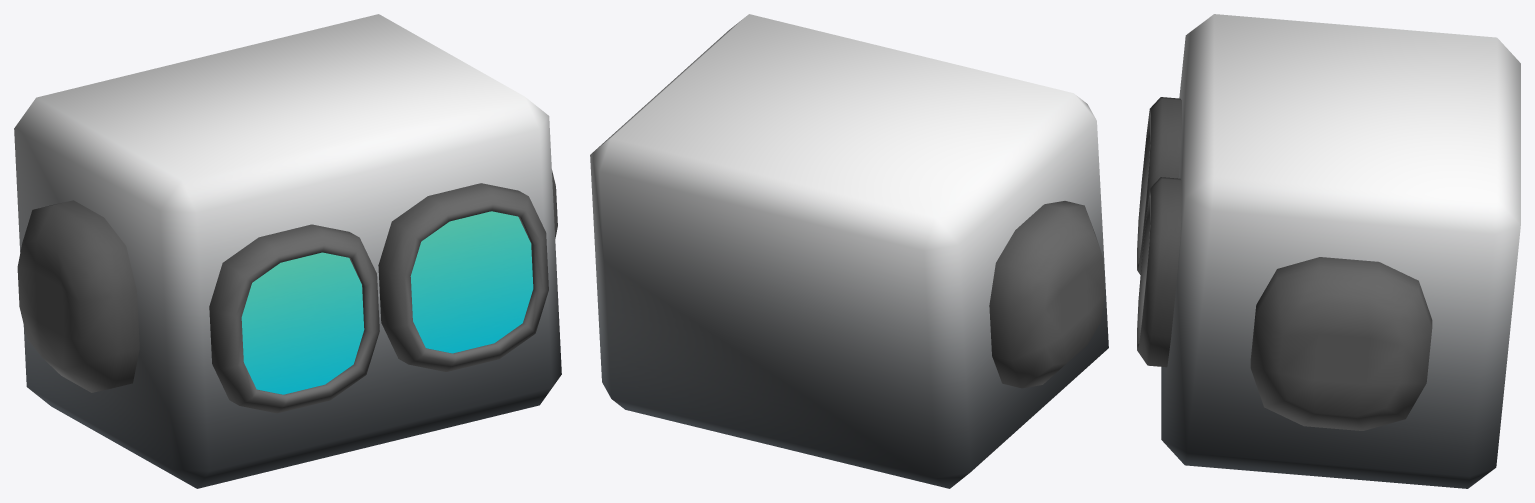
Rendered from robot hoofd 2.fbx.
3 renders of one model, left to right at view 1: azimuth 30°, elevation 25°; view 2: azimuth 150°, elevation 25°; view 3: azimuth 270°, elevation 25°, orthographic. The views are drawn at different scales.
Visible parts, largest first — view 1: R1_Head; view 2: R1_Head; view 3: R1_Head.
Part boxes in pixels (<box>): R1_Head: <box>14,14,561,488</box>; R1_Head: <box>590,14,1108,488</box>; R1_Head: <box>1137,14,1520,488</box>.
Size of the model in its own units: 0.5728 by 0.3874 by 0.412.
